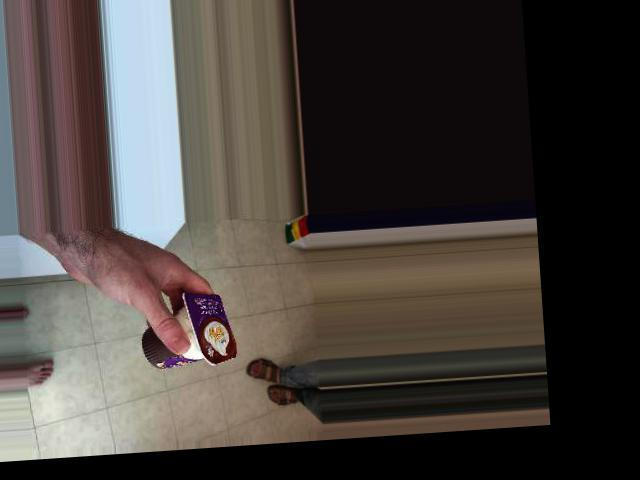milky: (127, 288, 246, 366)
